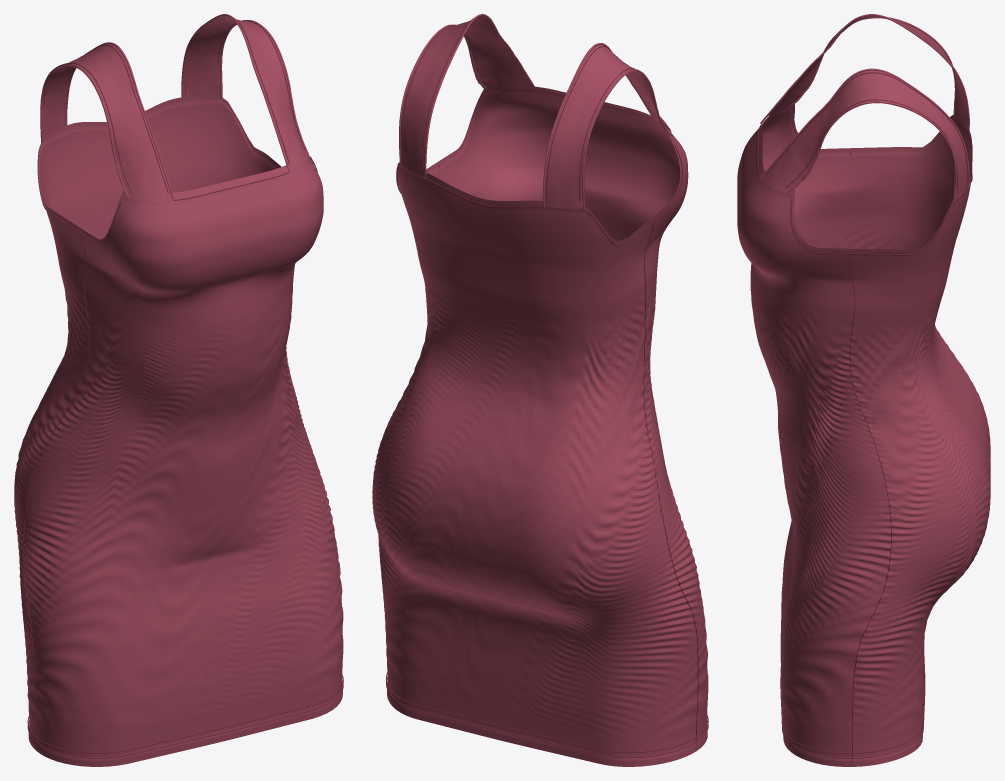
Rendered from vestido-mini-plisado_M.glb.
3 views of the same model, side by side, from view 1: azimuth 30°, elevation 25°; view 2: azimuth 150°, elevation 25°; view 3: azimuth 270°, elevation 25° (orthographic). The views are drawn at different scales.
Parts seen in each view (by area): view 1: vestido, tirante (×2), pespunte (×3), tirante-borde (×3); view 2: vestido, tirante (×2), pespunte (×2), tirante-borde (×2); view 3: vestido, tirante (×2), tirante-borde (×3), pespunte (×2).
Boxes of the visible parts, bbox=[...] form: vestido: bbox=[14, 94, 343, 766]; tirante (×2): bbox=[40, 14, 307, 202]; pespunte (×3): bbox=[22, 230, 343, 758]; tirante-borde (×3): bbox=[40, 14, 290, 200]; vestido: bbox=[372, 85, 708, 766]; tirante (×2): bbox=[400, 14, 671, 209]; pespunte (×2): bbox=[386, 218, 708, 752]; tirante-borde (×2): bbox=[424, 14, 672, 209]; vestido: bbox=[737, 104, 990, 766]; tirante (×2): bbox=[761, 14, 968, 201]; tirante-borde (×3): bbox=[760, 14, 969, 202]; pespunte (×2): bbox=[766, 72, 968, 762].
Bounding box in the file's own units: 0.3767 × 0.806 × 0.2824.
